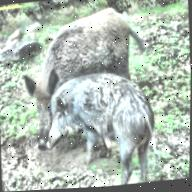boar: (39, 61, 170, 190), (21, 10, 134, 155)
